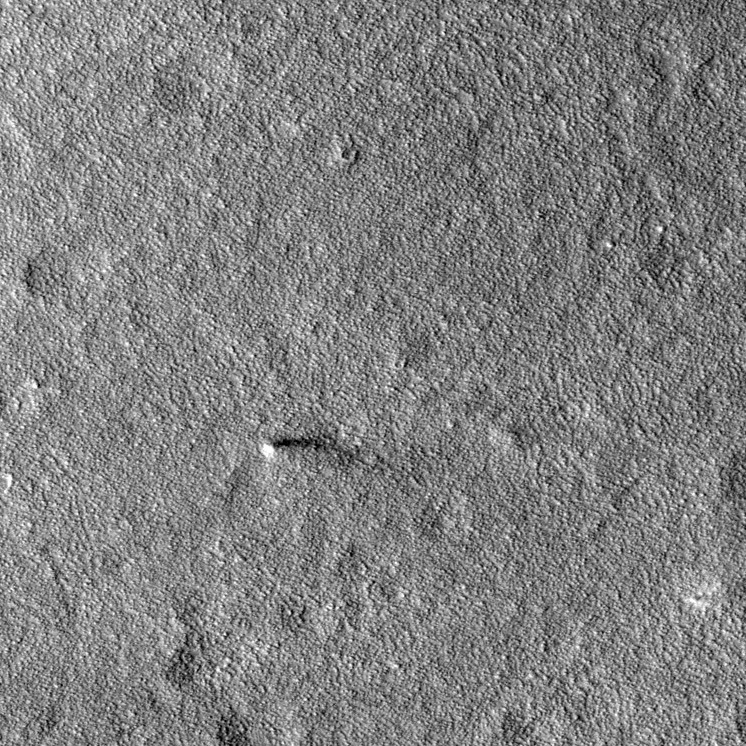dust_devil: (255, 437, 339, 460)
